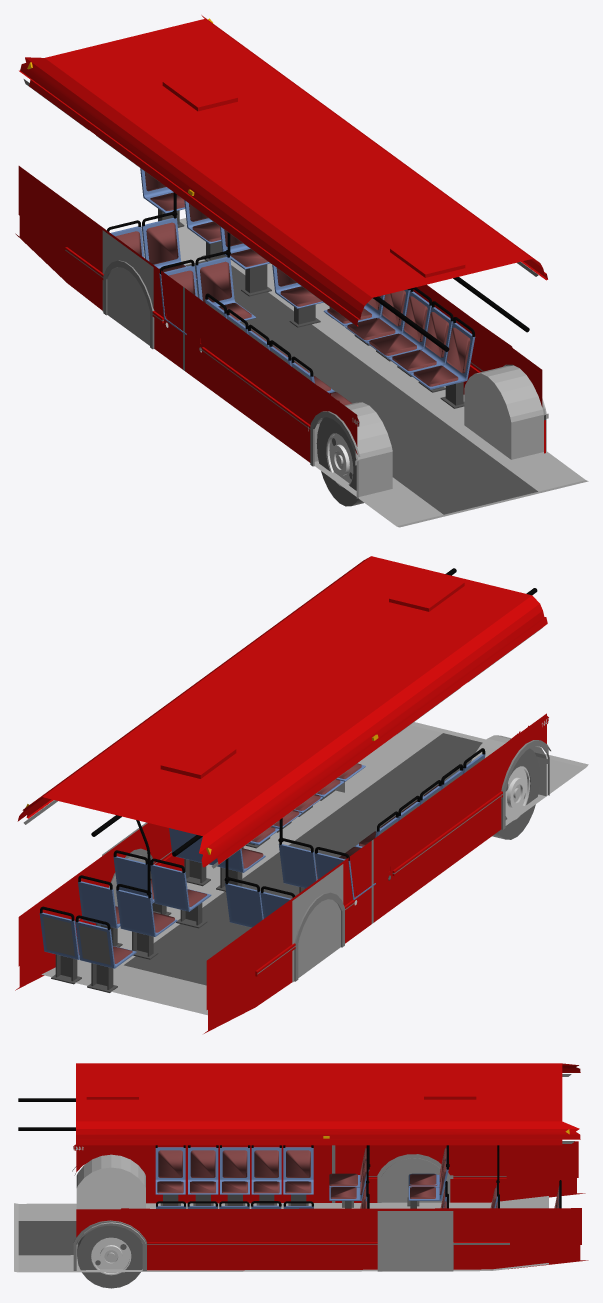
Rendered from bus3.fbx.
The picture shows the model from 3 angles, top to bottom: view 1: azimuth 30°, elevation 25°; view 2: azimuth 150°, elevation 25°; view 3: azimuth 270°, elevation 25°; orthographic projection. The views are drawn at different scales.
Visible parts, largest first — view 1: MTA_Bus2:Mesh291Group26MTA_Bus1Group1Model, MTA_Bus2:Mesh298Group30MTA_Bus1Group1Model, MTA_Bus4:Mesh303Group33MTA_Bus1Group1Model, polySurface4, MTA_Bus4:Mesh305Group35MTA_Bus1Group1Model, MTA_Bus2:Mesh294Group31Group30MTA_Bus1Group1Model, Mesh316Group42Component_1_8Group1Model, Mesh316Group42Component_1_8Group1Model9, Mesh21Group13Component_1_4Group1Model, Mesh314Group41Component_1_8Group1Model, Mesh316Group42Component_1_8Group1Model10, Mesh19Group12Component_1_4Group1Model (+7 smaller); view 2: MTA_Bus2:Mesh291Group26MTA_Bus1Group1Model, MTA_Bus2:Mesh298Group30MTA_Bus1Group1Model, MTA_Bus4:Mesh303Group33MTA_Bus1Group1Model, MTA_Bus4:Mesh305Group35MTA_Bus1Group1Model, polySurface4, MTA_Bus2:Mesh294Group31Group30MTA_Bus1Group1Model, Mesh316Group42Component_1_8Group1Model11, Mesh314Group41Component_1_8Group1Model5, Mesh314Group41Component_1_8Group1Model8, Mesh316Group42Component_1_8Group1Model8, Mesh316Group42Component_1_8Group1Model5, Mesh316Group42Component_1_8Group1Model9 (+7 smaller); view 3: MTA_Bus2:Mesh291Group26MTA_Bus1Group1Model, MTA_Bus4:Mesh305Group35MTA_Bus1Group1Model, MTA_Bus4:Mesh303Group33MTA_Bus1Group1Model, MTA_Bus2:Mesh298Group30MTA_Bus1Group1Model, polySurface3, MTA_Bus2:Mesh296Group32Group30MTA_Bus1Group1Model, polySurface4, MTA_Bus2:Mesh19Group12Component_1_4Group1Model, MTA_Bus2:Mesh316Group42Component_1_8Group1Model, MTA_Bus2:Mesh1Group2Group1Model, MTA_Bus2:Mesh314Group41Component_1_8Group1Model, MTA_Bus2:Mesh21Group13Component_1_4Group1Model (+4 smaller).
Part boxes in pixels (x1,y1,x2,y2): MTA_Bus2:Mesh291Group26MTA_Bus1Group1Model: [19, 15, 547, 326]; MTA_Bus2:Mesh298Group30MTA_Bus1Group1Model: [141, 218, 588, 527]; MTA_Bus4:Mesh303Group33MTA_Bus1Group1Model: [15, 79, 360, 498]; polySurface4: [102, 230, 153, 345]; MTA_Bus4:Mesh305Group35MTA_Bus1Group1Model: [413, 262, 545, 453]; MTA_Bus2:Mesh294Group31Group30MTA_Bus1Group1Model: [316, 417, 363, 506]; Mesh316Group42Component_1_8Group1Model: [410, 317, 475, 389]; Mesh316Group42Component_1_8Group1Model9: [195, 250, 255, 321]; Mesh21Group13Component_1_4Group1Model: [367, 287, 432, 358]; Mesh314Group41Component_1_8Group1Model: [388, 301, 453, 373]; Mesh316Group42Component_1_8Group1Model10: [141, 211, 196, 280]; Mesh19Group12Component_1_4Group1Model: [345, 288, 410, 342]; MTA_Bus2:Mesh291Group26MTA_Bus1Group1Model: [17, 556, 547, 867]; MTA_Bus2:Mesh298Group30MTA_Bus1Group1Model: [41, 722, 588, 1015]; MTA_Bus4:Mesh303Group33MTA_Bus1Group1Model: [204, 627, 550, 1033]; MTA_Bus4:Mesh305Group35MTA_Bus1Group1Model: [15, 800, 184, 990]; polySurface4: [292, 864, 343, 982]; MTA_Bus2:Mesh294Group31Group30MTA_Bus1Group1Model: [492, 748, 540, 839]; Mesh316Group42Component_1_8Group1Model11: [116, 884, 177, 936]; Mesh314Group41Component_1_8Group1Model5: [150, 858, 211, 911]; Mesh314Group41Component_1_8Group1Model8: [75, 915, 136, 968]; Mesh316Group42Component_1_8Group1Model8: [39, 906, 79, 959]; Mesh316Group42Component_1_8Group1Model5: [78, 875, 120, 928]; Mesh316Group42Component_1_8Group1Model9: [278, 837, 317, 888]; MTA_Bus2:Mesh291Group26MTA_Bus1Group1Model: [76, 1063, 580, 1145]; MTA_Bus4:Mesh305Group35MTA_Bus1Group1Model: [73, 1141, 588, 1270]; MTA_Bus4:Mesh303Group33MTA_Bus1Group1Model: [72, 1074, 585, 1203]; MTA_Bus2:Mesh298Group30MTA_Bus1Group1Model: [14, 1154, 548, 1272]; polySurface3: [377, 1211, 453, 1271]; MTA_Bus2:Mesh296Group32Group30MTA_Bus1Group1Model: [77, 1225, 142, 1288]; polySurface4: [377, 1154, 453, 1202]; MTA_Bus2:Mesh19Group12Component_1_4Group1Model: [188, 1145, 218, 1194]; MTA_Bus2:Mesh316Group42Component_1_8Group1Model: [283, 1145, 313, 1194]; MTA_Bus2:Mesh1Group2Group1Model: [155, 1145, 185, 1194]; MTA_Bus2:Mesh314Group41Component_1_8Group1Model: [251, 1145, 281, 1194]; MTA_Bus2:Mesh21Group13Component_1_4Group1Model: [220, 1145, 250, 1194].
Bounding box in the file's own units: 13.55 × 15.06 × 47.03.
